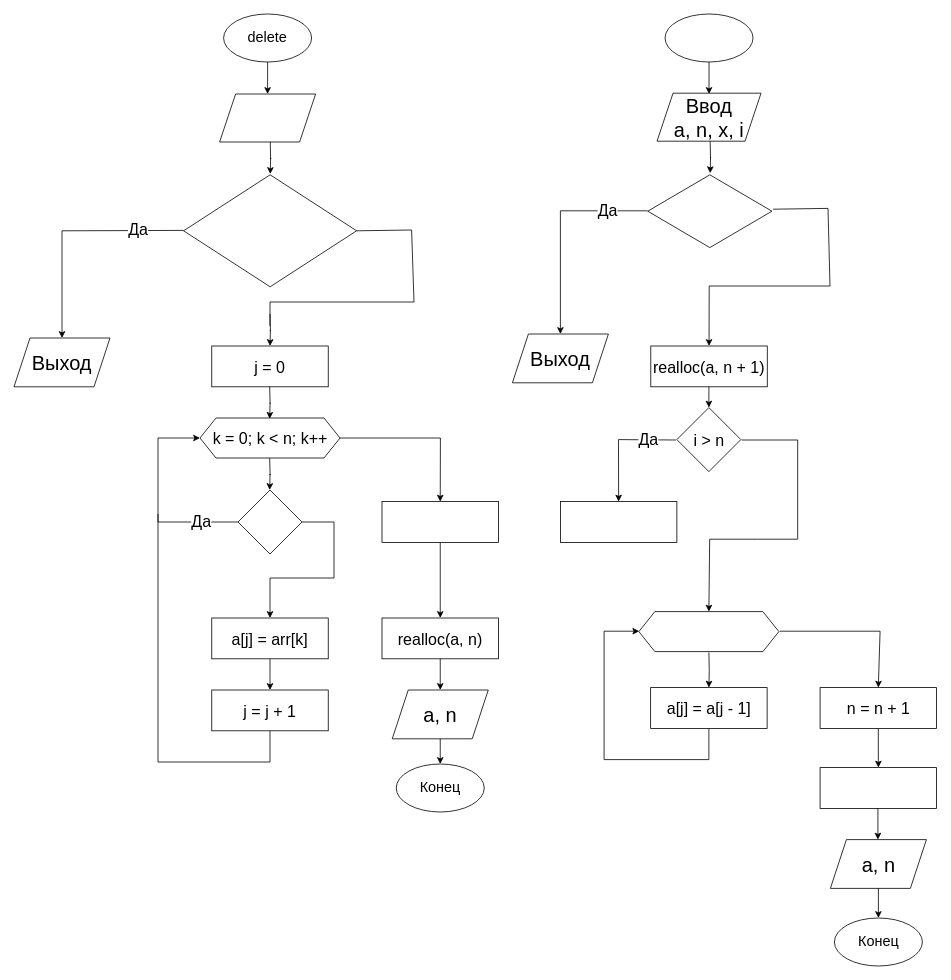
Some shapes in this 951 by 980 pixel diagram are drawn without their labels. The centre of each missing label's shape, as x and y in pixels:
a[i] = x: the point at 878,787
i < 0: the point at 709,211
i = n: the point at 618,521
insert: the point at 708,37
j = n; j > i; j--: the point at 708,631
k == i: the point at 269,521
n < 1 || i < 0 || i >= n: the point at 270,230
n = n - 1: the point at 439,521
Ввод a, n, i: the point at 267,117
